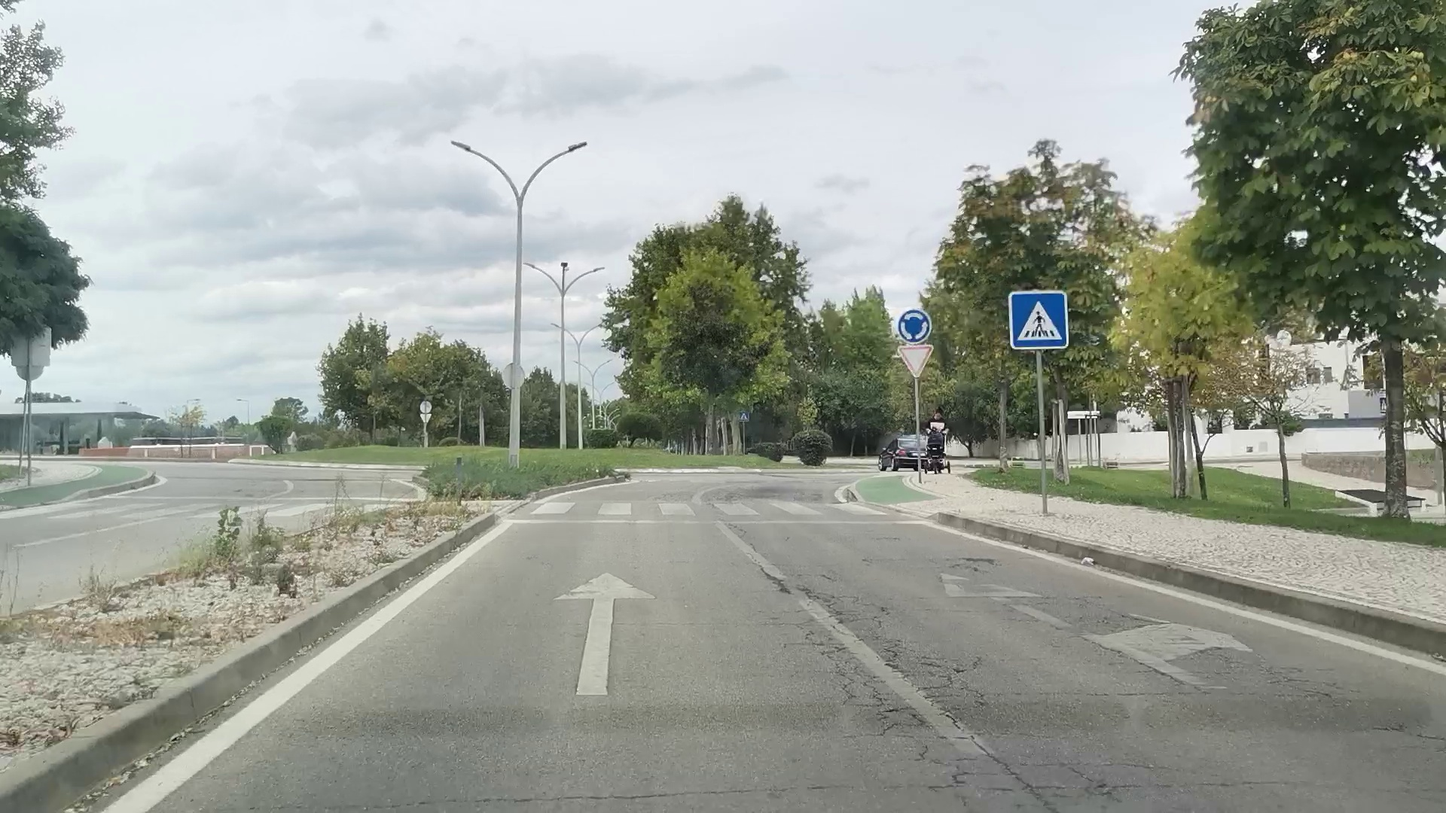Stairs: (105, 500, 408, 524), (528, 499, 887, 516)
